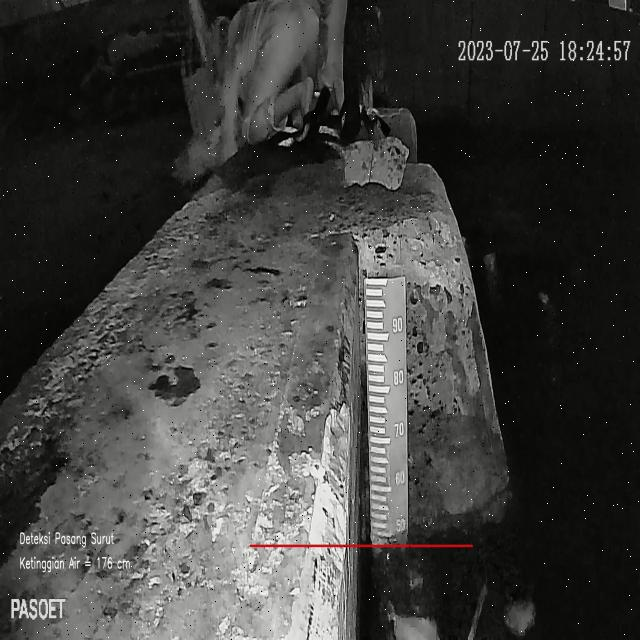50: (395, 516, 406, 532)
60: (394, 468, 406, 486)
70: (394, 421, 405, 439)
80: (393, 370, 404, 387)
90: (391, 315, 403, 335)
staff: (363, 277, 407, 532)
